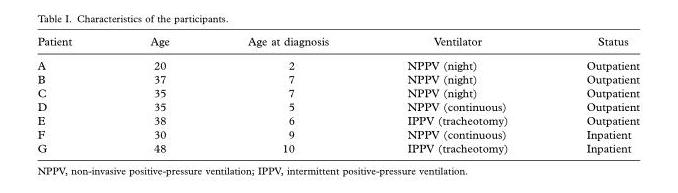table: (36, 36, 639, 153)
table column: (367, 36, 546, 153), (208, 36, 367, 153), (110, 36, 208, 153), (546, 36, 639, 153), (36, 36, 110, 153)
table column header: (36, 36, 639, 53)
table row: (36, 53, 639, 72), (36, 36, 639, 53), (36, 72, 639, 86), (36, 86, 639, 100), (36, 113, 639, 127), (36, 127, 639, 141), (36, 100, 639, 113), (36, 141, 639, 153)
